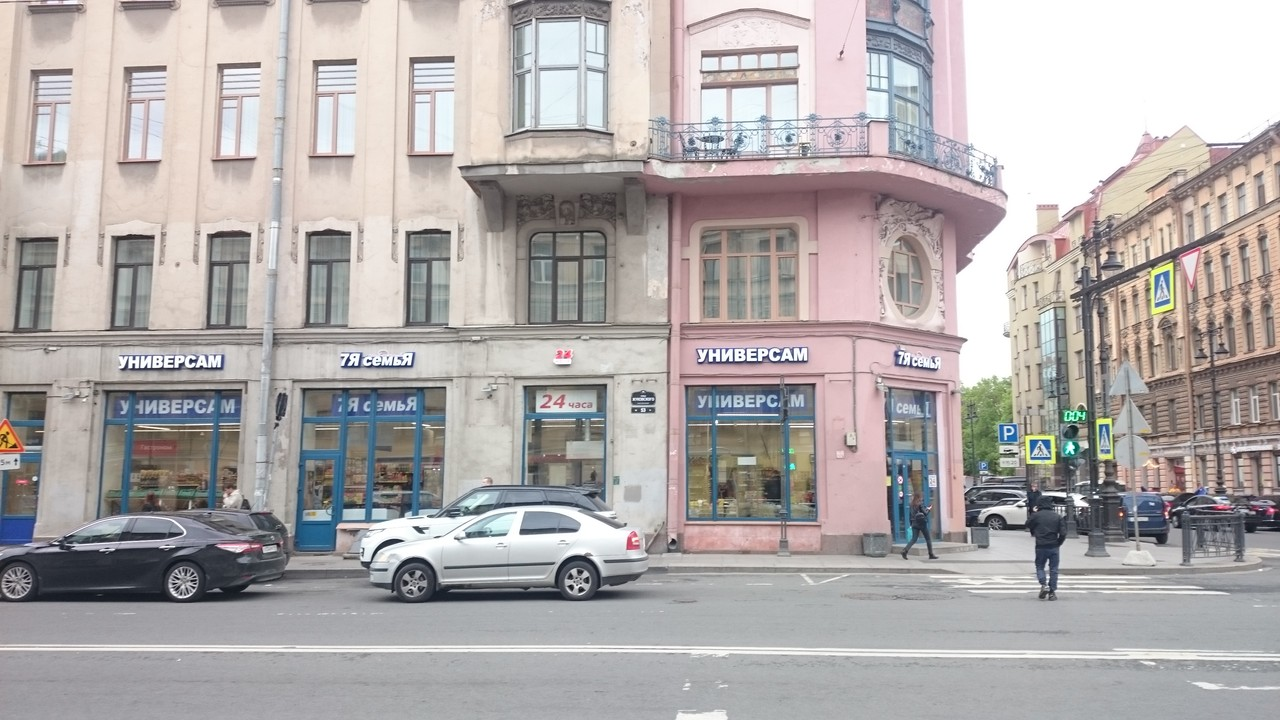signboard: (116, 351, 227, 374), (694, 346, 811, 364), (335, 351, 420, 367)
window: (295, 387, 447, 522), (685, 382, 815, 523), (107, 391, 239, 510), (702, 48, 800, 160), (513, 20, 609, 134), (698, 229, 802, 322), (529, 228, 607, 322), (407, 57, 456, 155), (405, 228, 451, 327), (11, 238, 58, 332), (305, 230, 350, 327), (206, 235, 252, 328), (27, 67, 71, 163), (314, 59, 357, 157), (125, 67, 167, 163), (112, 235, 153, 332), (216, 66, 259, 157)
